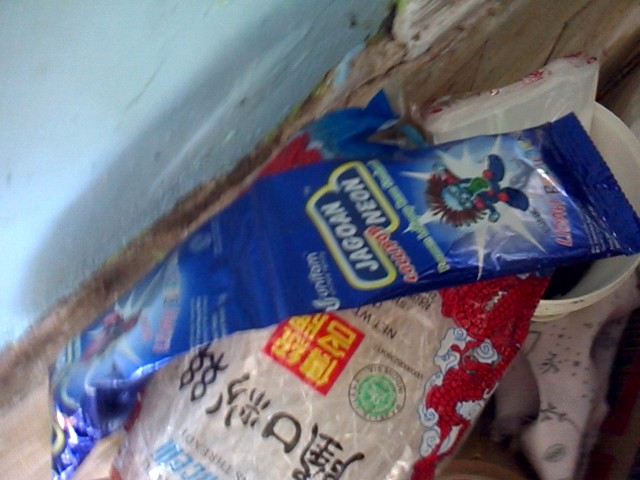jagoan neon: (242, 112, 640, 329)
